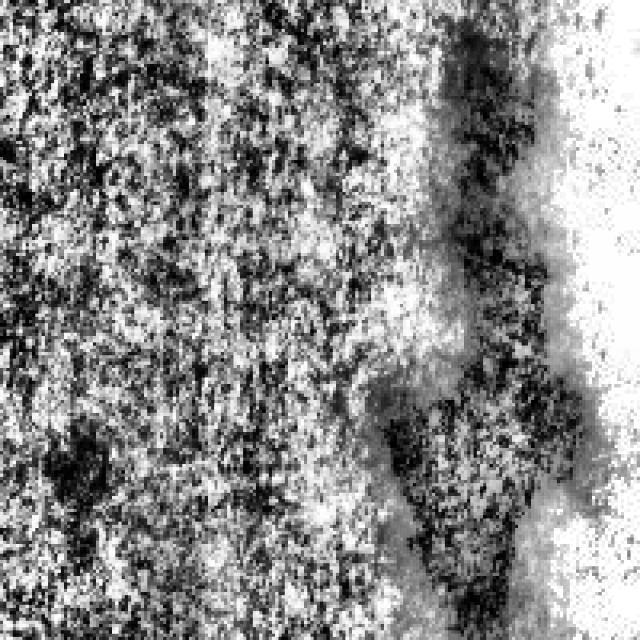Scratches: (378, 170, 596, 634), (429, 29, 557, 269)
